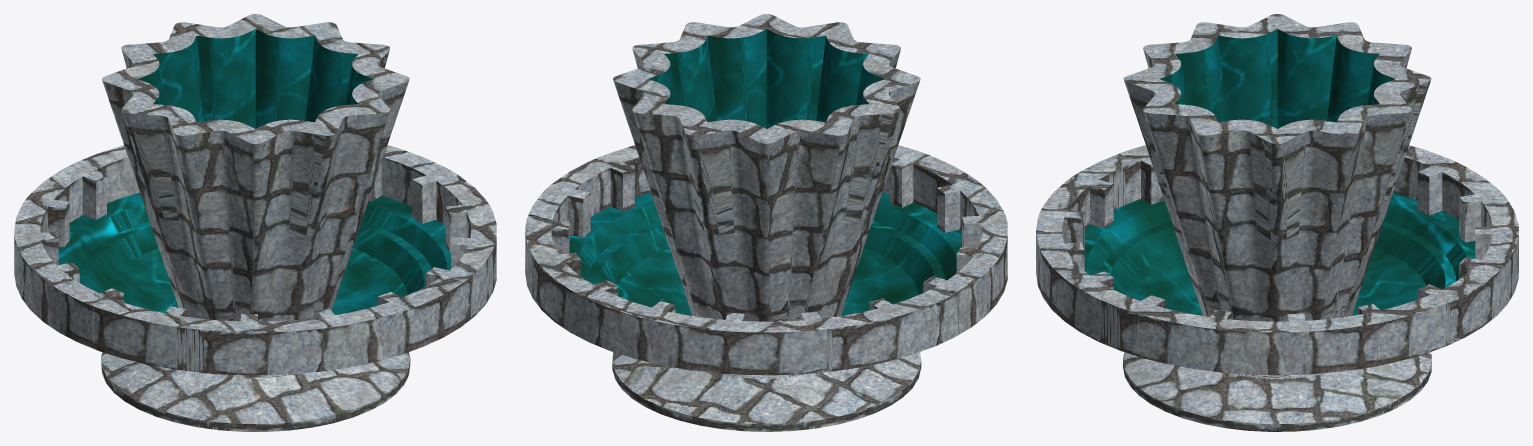
Rendered from Practice56_1.glb.
3 views of the same model, side by side, from view 1: azimuth 30°, elevation 25°; view 2: azimuth 150°, elevation 25°; view 3: azimuth 270°, elevation 25° (orthographic).
Visible parts, largest first — view 1: Part, Part 2; view 2: Part, Part 2; view 3: Part, Part 2.
Boxes of the visible parts, x1,y1,x2,y2 form: Part: (14,14,496,431); Part 2: (58,29,450,315); Part: (525,14,1007,431); Part 2: (569,29,961,315); Part: (1036,14,1518,431); Part 2: (1084,29,1475,315).
Size of the model in its own units: 0.2249 by 0.1479 by 0.225.
3 materials, 3 textured.
